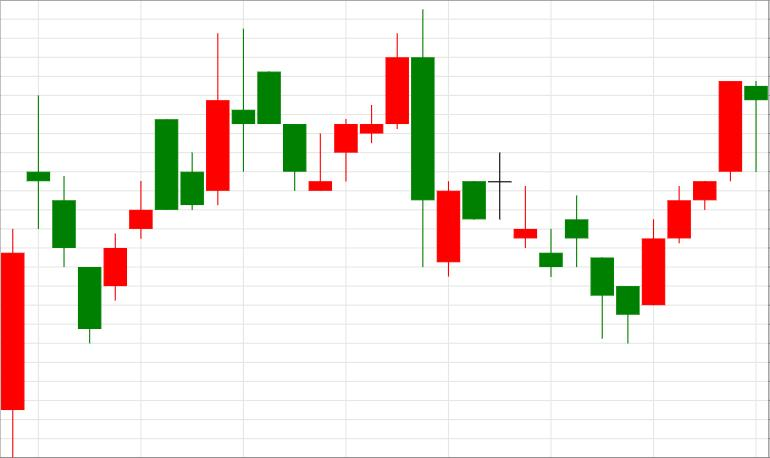bearish_engulfing_fall: (309, 9, 434, 266)
three_white_soldiers_rise: (539, 81, 716, 343)
